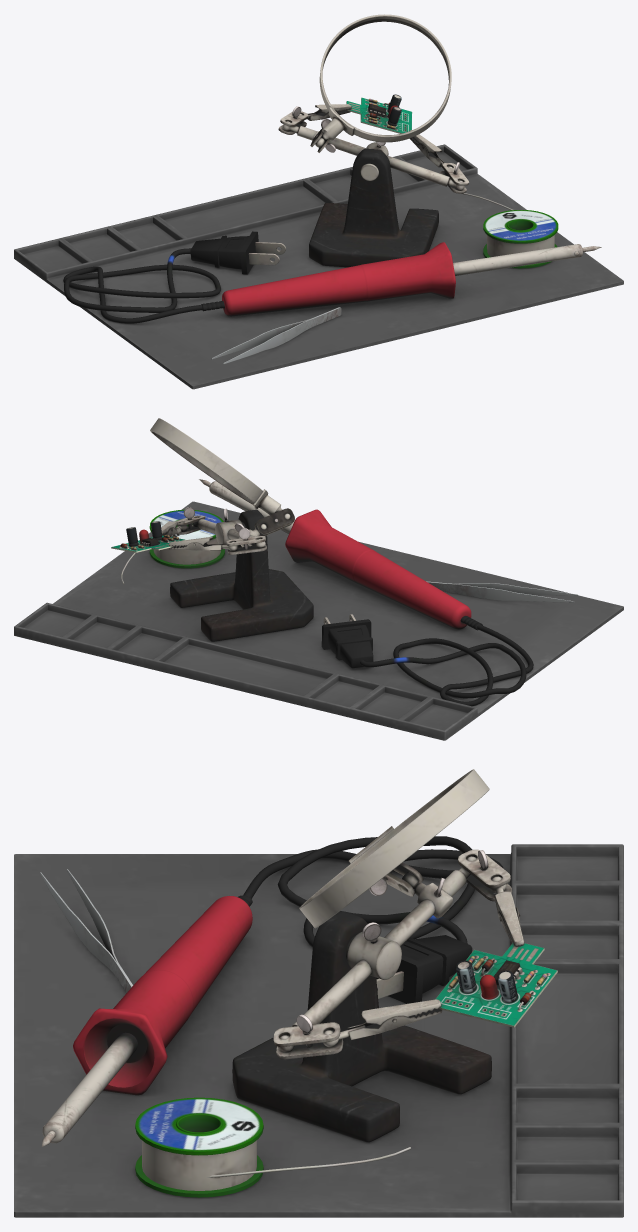
Rendered from soldering_station.glb.
3 renders of one model, top to bottom at view 1: azimuth 30°, elevation 25°; view 2: azimuth 150°, elevation 25°; view 3: azimuth 270°, elevation 25°, orthographic. The views are drawn at different scales.
Visible parts, largest first — view 1: defaultMaterial; view 2: defaultMaterial; view 3: defaultMaterial.
Boxes of the visible parts, <box> form: defaultMaterial: <box>14,14,623,389</box>; defaultMaterial: <box>14,418,623,740</box>; defaultMaterial: <box>14,769,623,1217</box>.
Bounding box in the file's own units: 0.648 × 0.2827 × 0.457.
2 materials, 2 textured.
